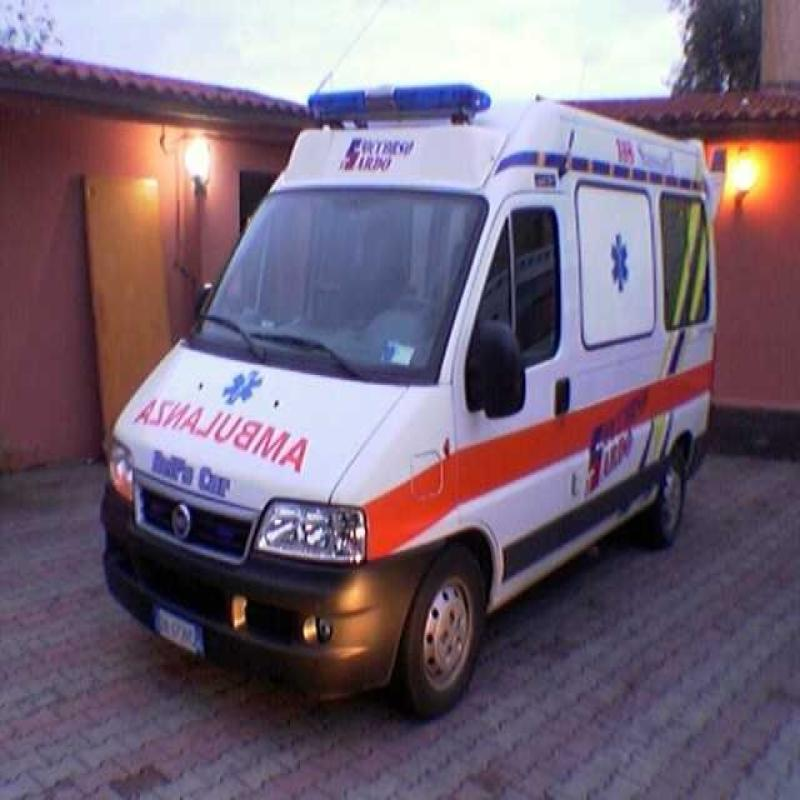AmbulanceSiren: (303, 71, 489, 134)
